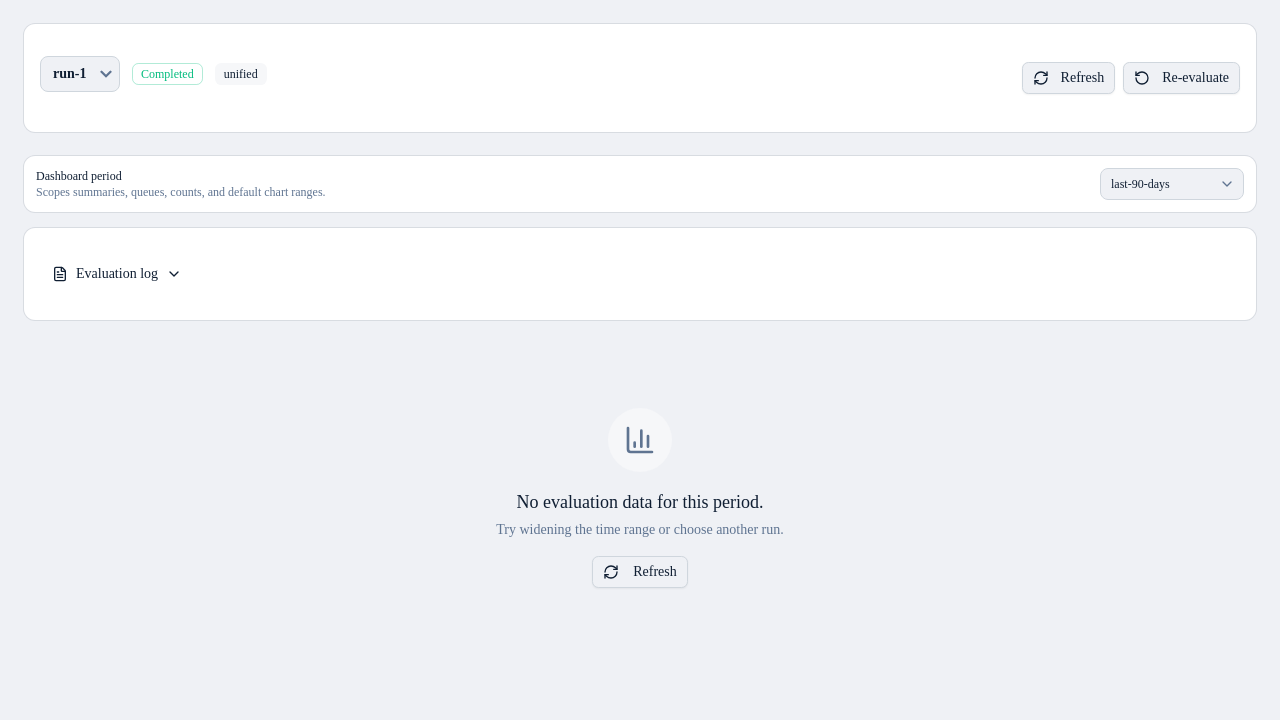
Test: Monitor page evaluation configuration › releases a legacy null-timestamp overlay from its explicit matching result
What coordinates should you click on to do the following:
click the button "Re-evaluate"
I would click on:
 (1182, 78)
Its box is x1=1123 y1=62 x2=1240 y2=94.
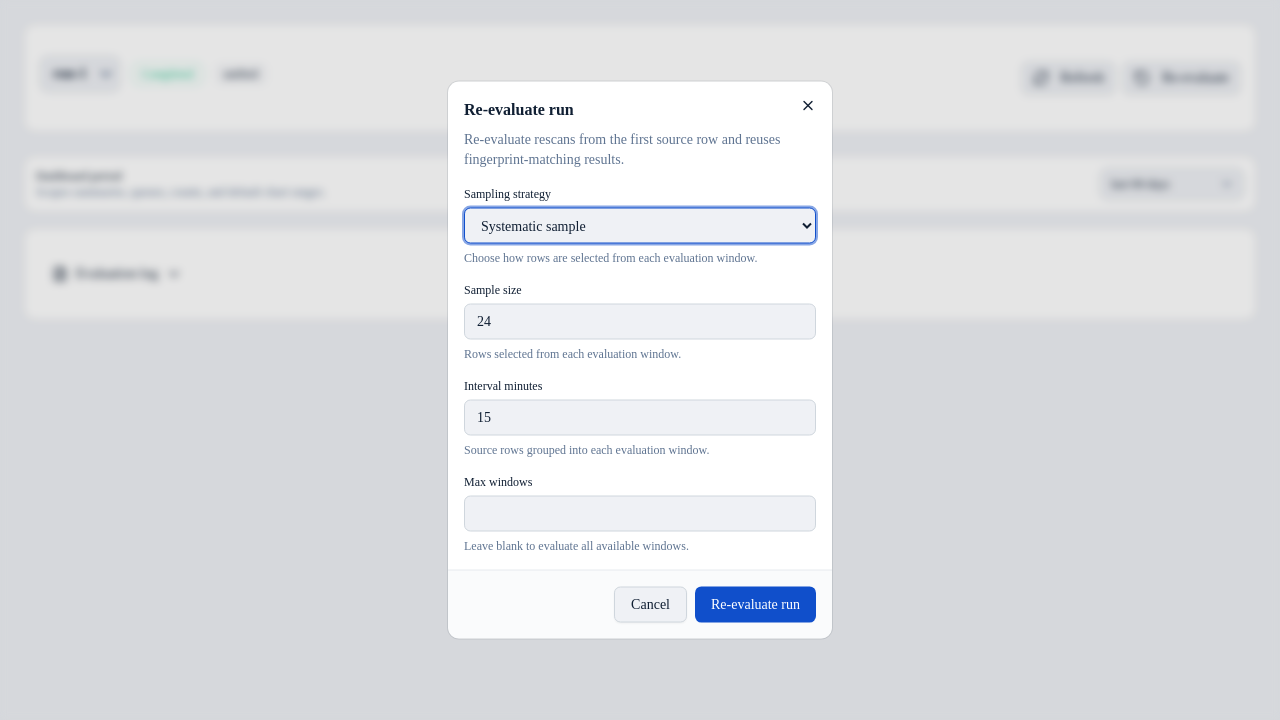
What coordinates should you click on to do the following:
click the button "Re-evaluate run"
I would click on:
 (756, 604)
Its box is x1=695 y1=586 x2=816 y2=622.
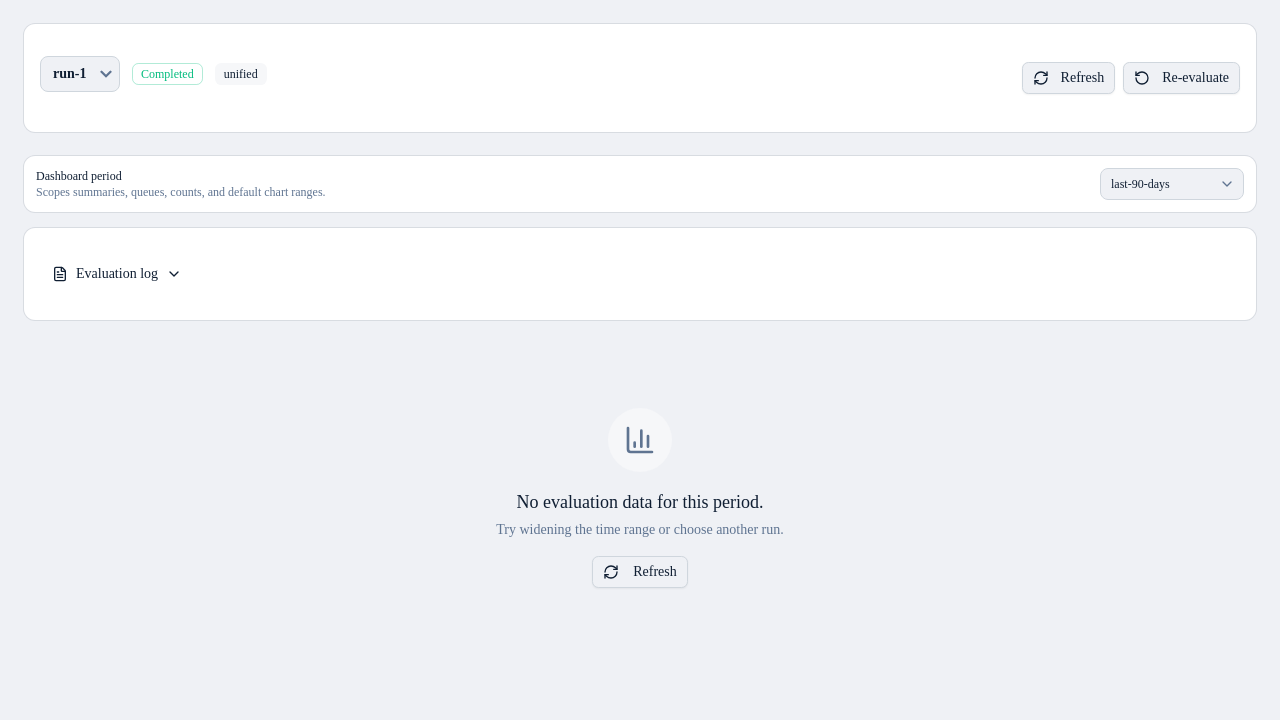
Expected: the button "Re-evaluate" is shown, x1=1123 y1=62 x2=1240 y2=94
Now the heading "Re-evaluate run" is gone
